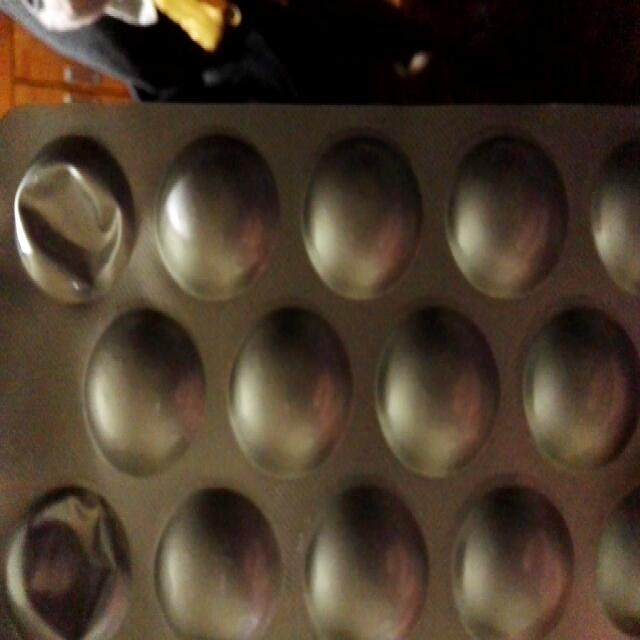Empty: (0, 478, 138, 640), (7, 137, 138, 304)
Pill: (142, 132, 281, 302), (439, 121, 572, 284), (514, 308, 640, 480), (369, 308, 498, 474), (226, 311, 358, 473), (296, 126, 424, 290), (78, 318, 209, 475), (450, 487, 578, 640), (303, 483, 427, 640), (156, 496, 284, 638), (586, 123, 640, 297), (592, 490, 640, 640)
